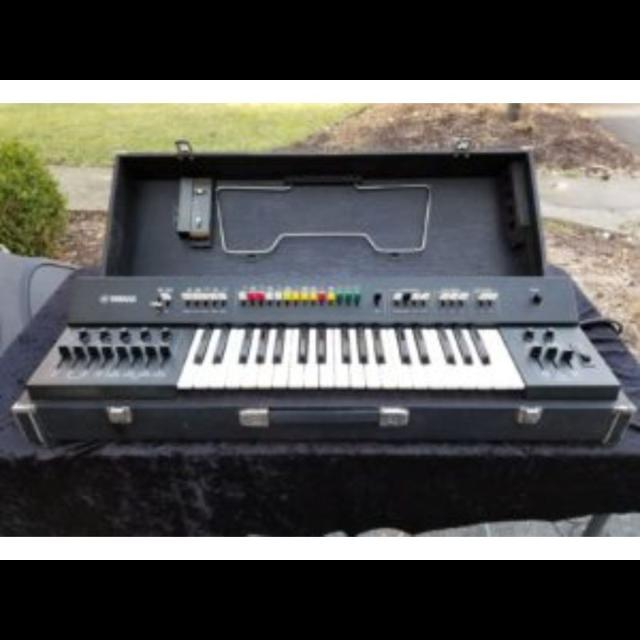Electronic-Keyboard: (39, 272, 616, 401)
